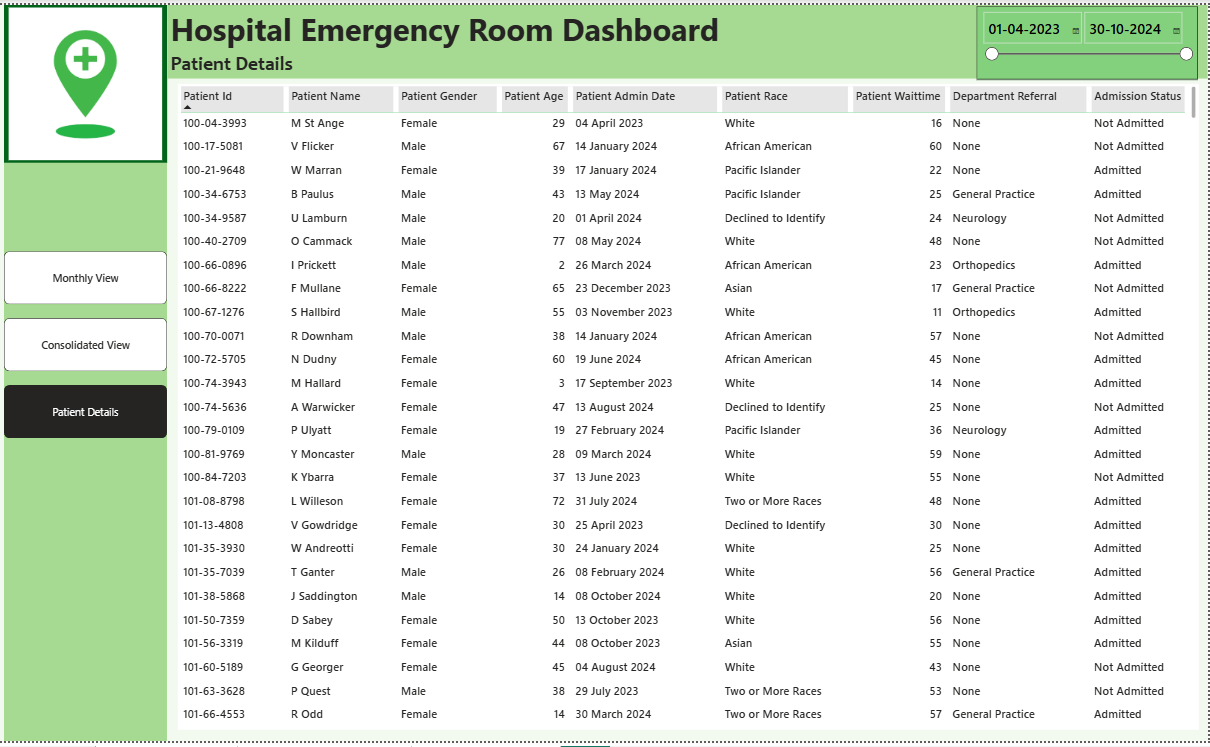

The page's visual inventory and layout, read from the dashboard file:
{"tool":"powerbi","page":{"name":"Patient Details","canvas":[2300,1400],"ordinal":2},"visuals":[{"type":"shape","box":[10.4,0,310,1399.9],"z":0},{"type":"shape","box":[321.5,0,1978,140],"z":1000},{"type":"textbox","box":[321.5,0,1060.3,90.7],"z":2000},{"type":"textbox","box":[320,83.3,336.7,56.7],"z":3000},{"type":"slicer","fields":{"Values":["Date Table.Date"]},"box":[1860.5,2.6,421.1,139.5],"z":4000},{"type":"image","box":[10,0,310,300],"z":5000},{"type":"tableEx","fields":{"Values":["Hospital ER_Data.Patient Id","Hospital ER_Data.Patient Full Name","Hospital ER_Data.Patient Gender","Sum(Hospital ER_Data.Patient Age)","Hospital ER_Data.Patient Admin Date","Hospital ER_Data.Patient Race","Sum(Hospital ER_Data.Patient Waittime)","Hospital ER_Data.Department Referral","Hospital ER_Data.Admission Status"]},"box":[339.5,150,1942.1,1228.9],"z":6000},{"type":"pageNavigator","box":[10.5,468.4,310.5,355.3],"z":6001}]}

Visuals, with their boxes in screenshot pixels (x1, y1, x2, y2), scaled from the page's 2300x1400 canvas onto the 1210x747 screenshot:
shape: (5,0,169,746)
shape: (169,0,1209,75)
textbox: (169,0,727,48)
textbox: (168,44,345,75)
slicer - Date Table.Date: (979,1,1200,76)
image: (5,0,168,160)
tableEx - Hospital ER_Data.Patient Id x Hospital ER_Data.Patient Full Name: (179,80,1200,736)
pageNavigator: (6,250,169,440)
